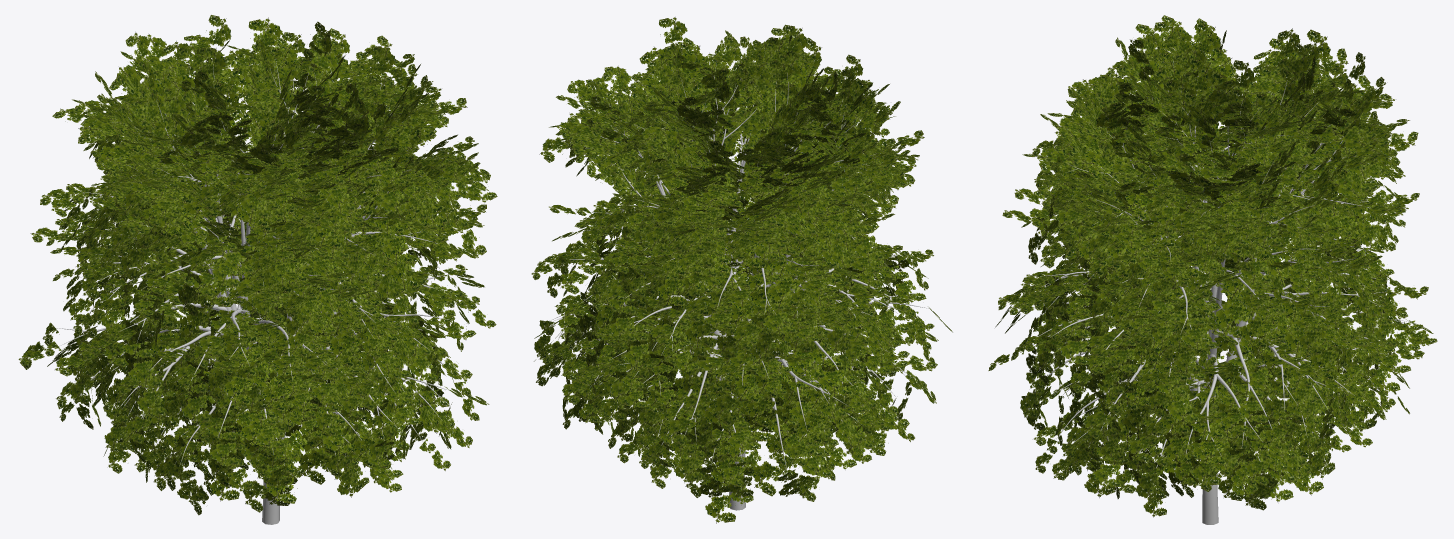
Rendered from tree2.fbx.
The picture shows the model from 3 angles, left to right: view 1: azimuth 30°, elevation 25°; view 2: azimuth 150°, elevation 25°; view 3: azimuth 270°, elevation 25°; orthographic projection. The views are drawn at different scales.
Parts seen in each view (by area): view 1: leaves, tree; view 2: leaves, tree; view 3: leaves, tree.
Boxes of the visible parts, x1,y1,x2,y2 form: leaves: (18, 15, 497, 515); tree: (57, 58, 463, 524); leaves: (531, 17, 952, 523); tree: (549, 61, 929, 510); leaves: (988, 15, 1437, 517); tree: (1032, 56, 1409, 524).
Bounding box in the file's own units: 1103 × 1224 × 1055.
